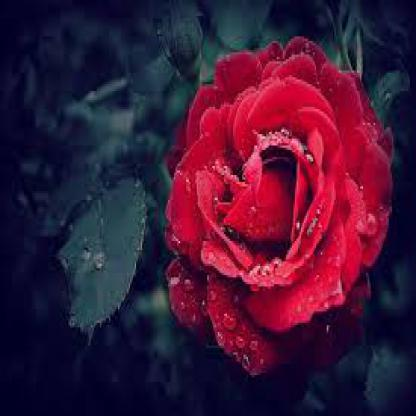Rose-Mawar: (162, 35, 398, 397)
